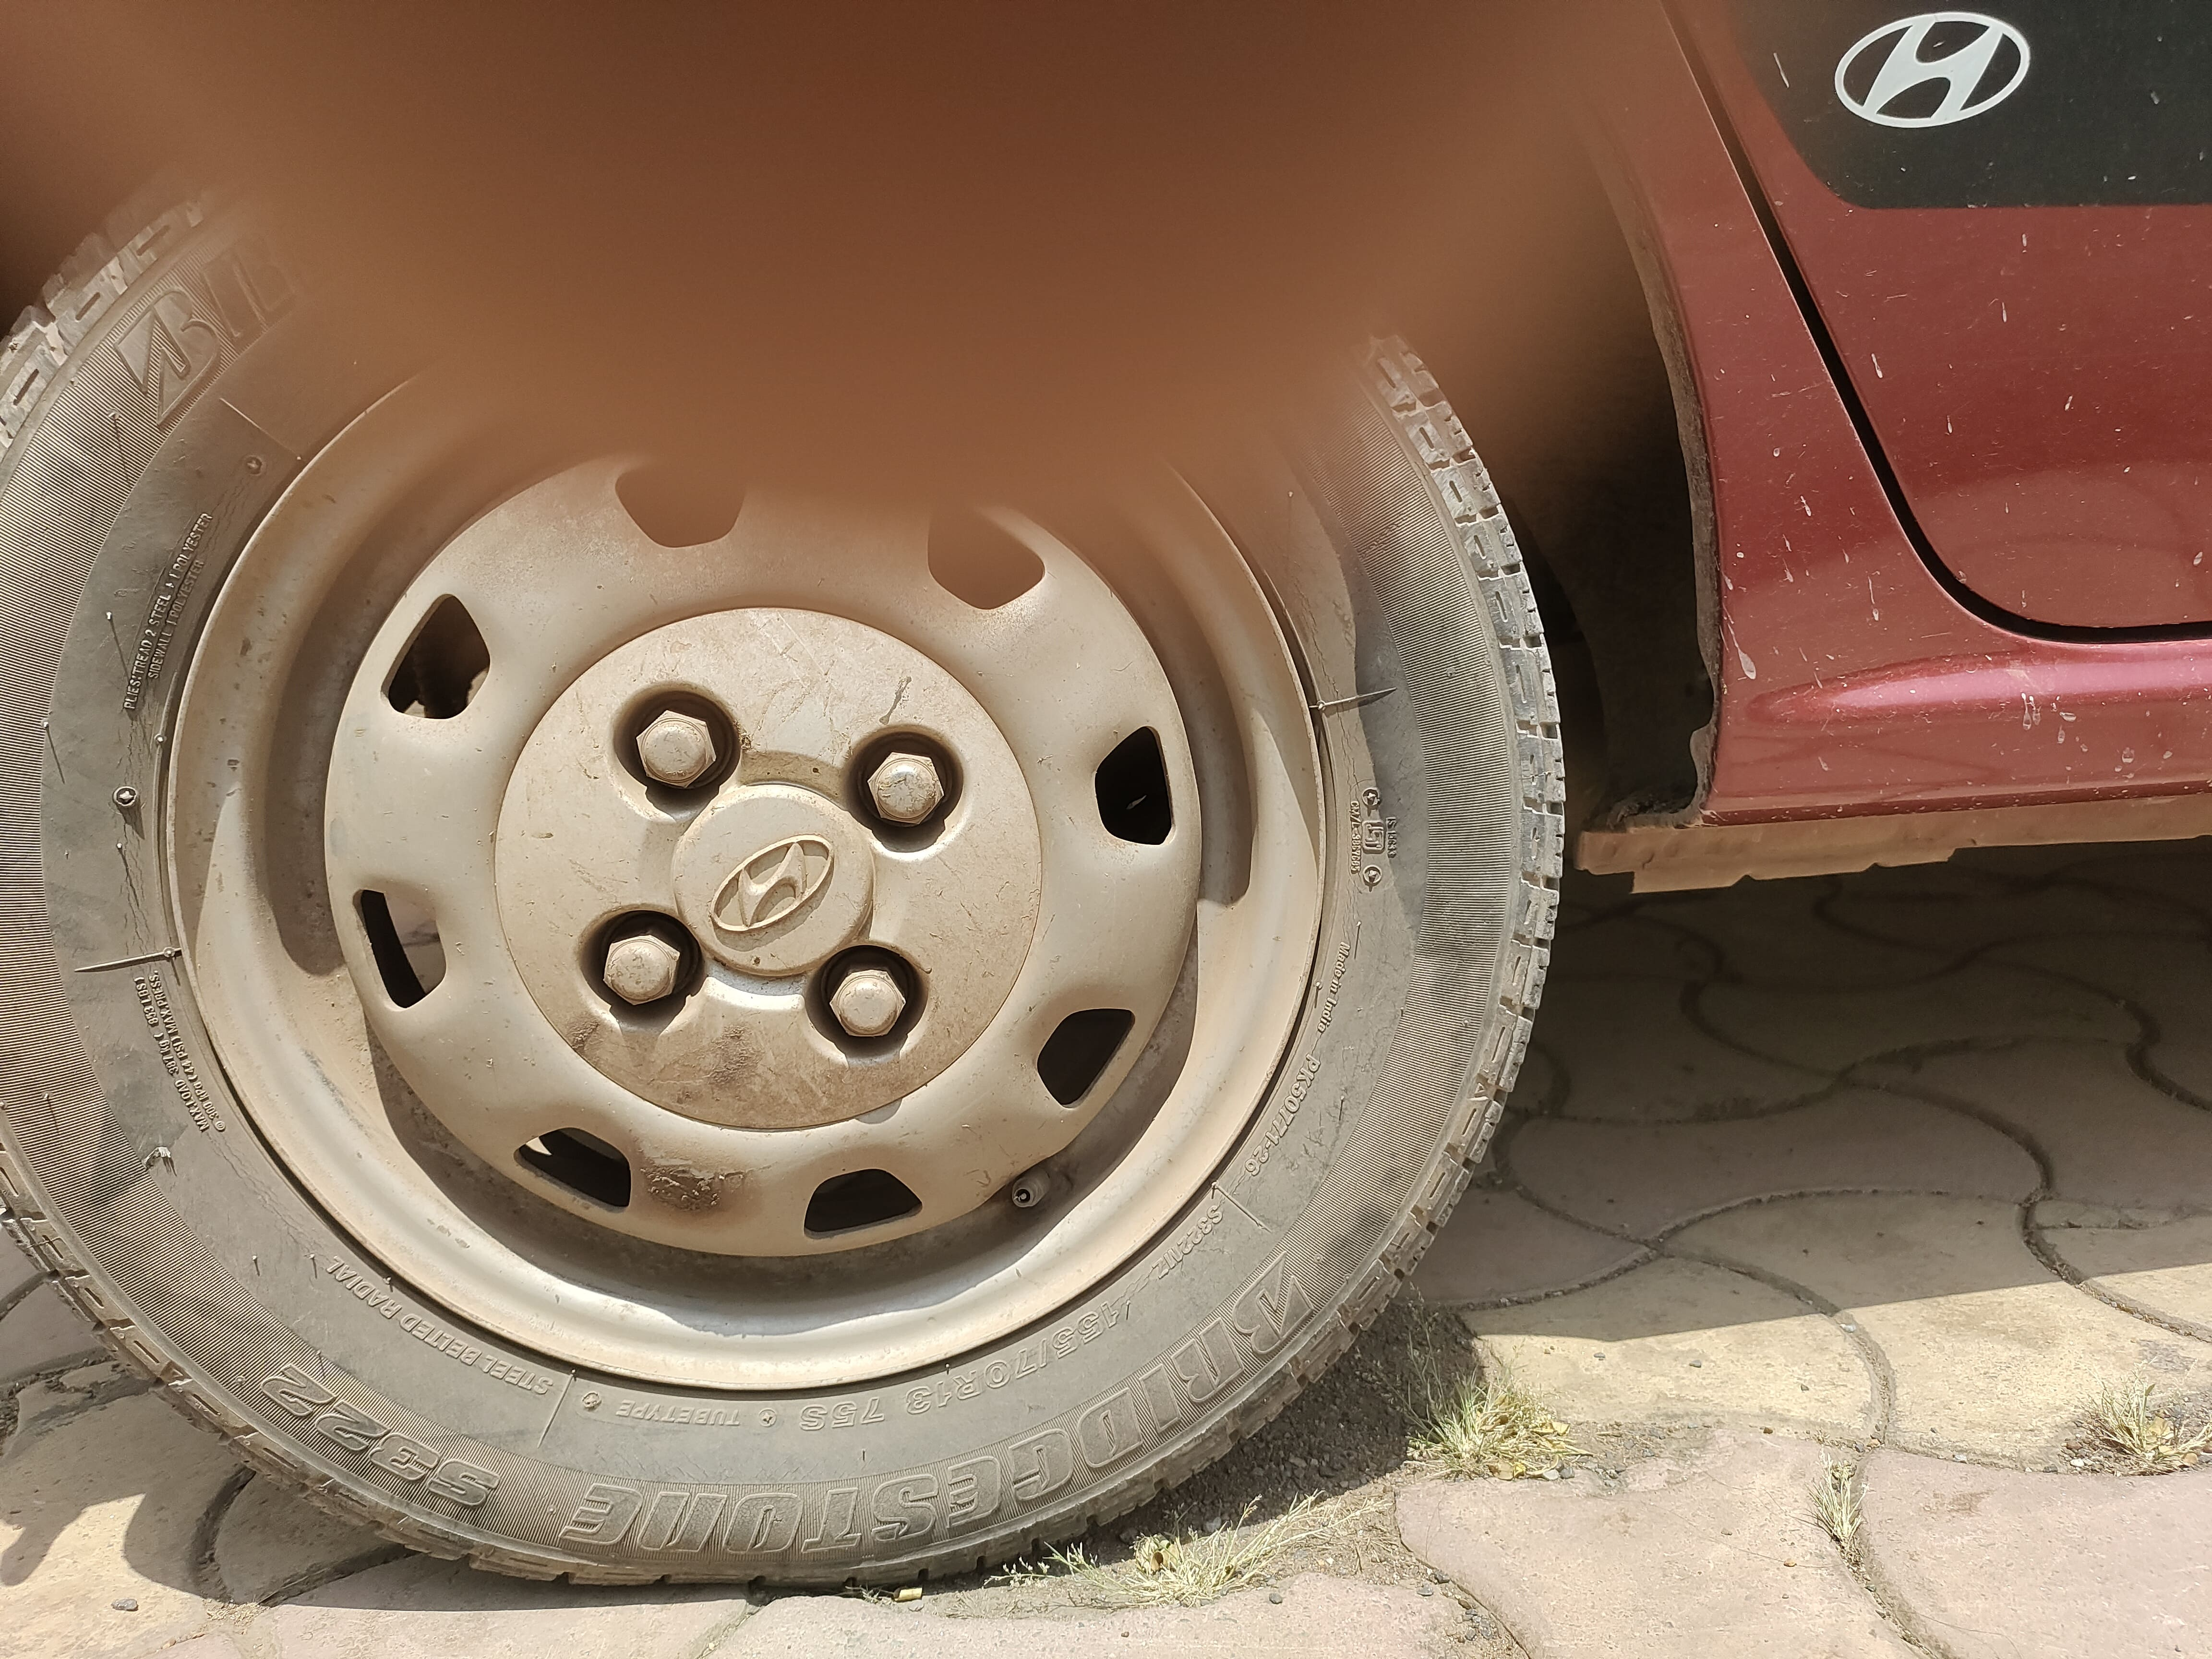l: (803, 931, 918, 1096), (556, 911, 718, 1019), (845, 723, 958, 852), (622, 688, 728, 795)
